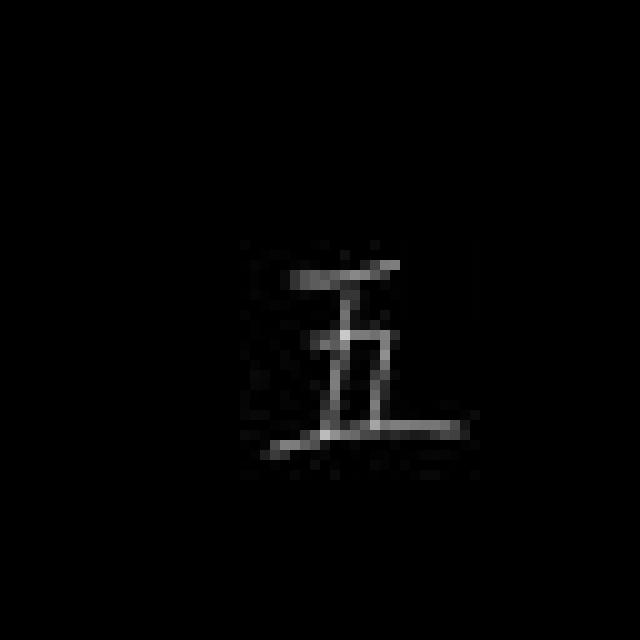5 -five-: (266, 251, 469, 462)
